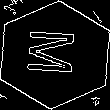M_E: (25, 30, 85, 80)
